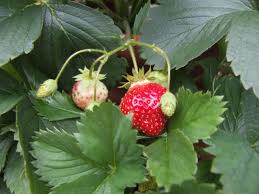ripe: (117, 73, 173, 141)
unripe: (72, 75, 110, 111), (158, 95, 182, 115), (34, 82, 62, 98)
